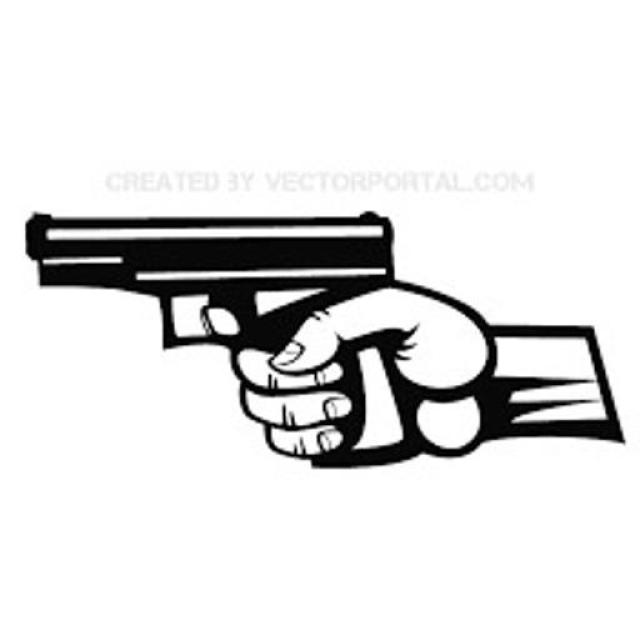pistol: (20, 205, 411, 485)
